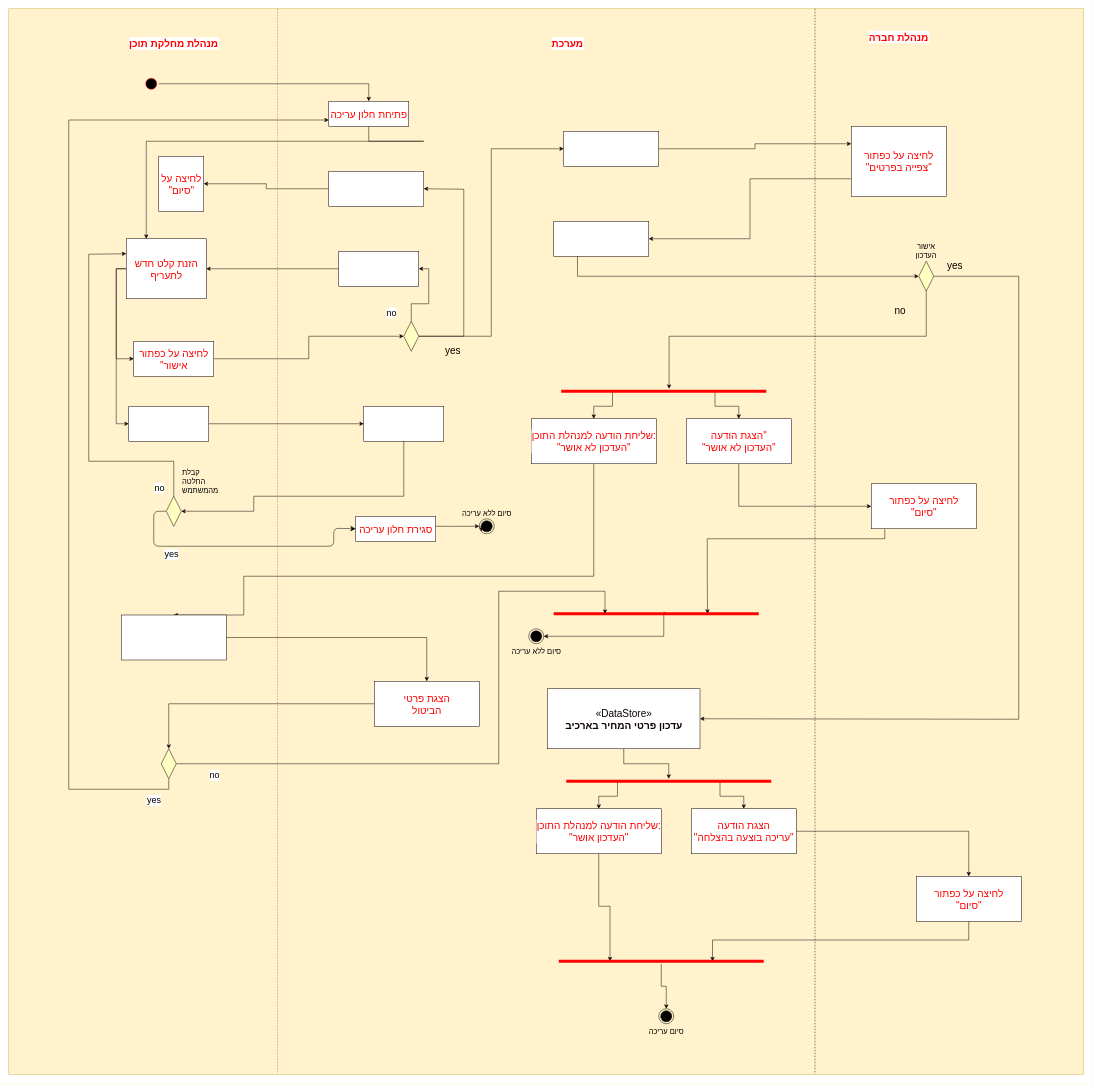
Some shapes in this 1093 by 1084 pixel diagram are drawn without their labels. The centre of each missing label's shape, as x and y in pixels:
הצגת הודעה למשתמש "העדכון נשלח לאישור": the point at 376,188
הצגת הודעת וידוא לפני יציאה: the point at 403,423
הצגת הודעת שגיאה "קלט לא תקין": the point at 378,268
הצגת פרטי עדכון: the point at 601,238
לחיצה על כפתור "ביטול": the point at 168,423
לחיצה על כפתור "עדכן תעריף": the point at 151,83
לחיצה על צפייה בפרטים: the point at 173,637
עריכה מחדש: the point at 168,763
קלט תקין: the point at 411,336
שליחת בקשת אישור למנהלת חברה: the point at 611,148
